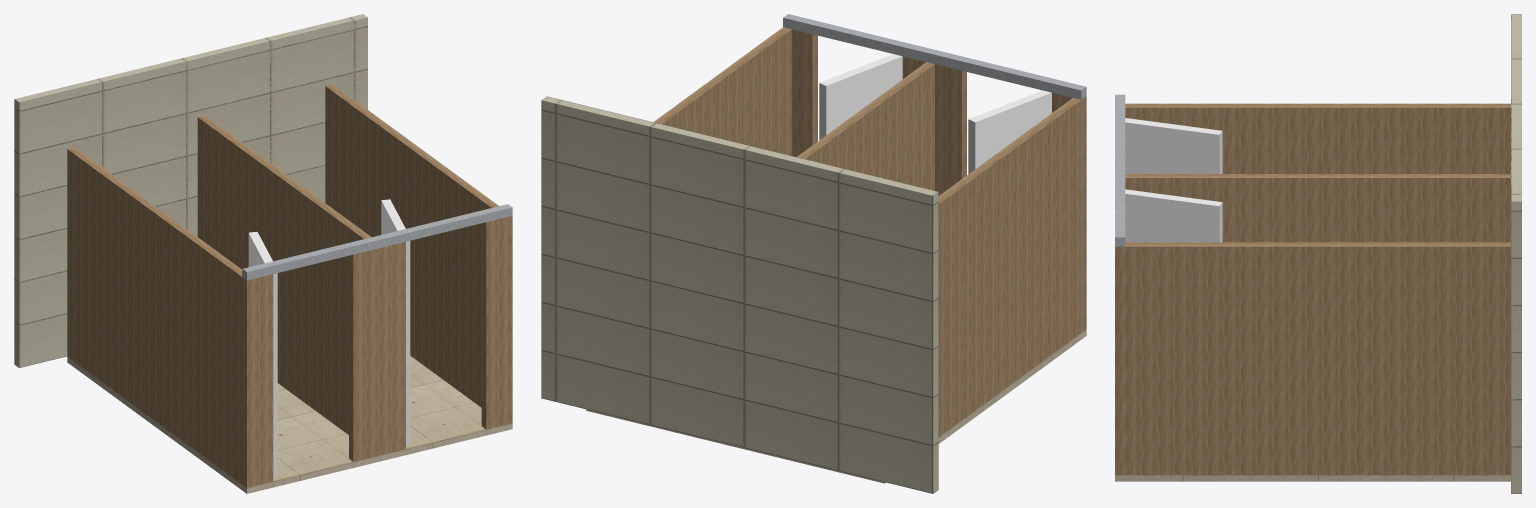
File: Cubicle.glb
3 renders of one model, left to right at view 1: azimuth 30°, elevation 25°; view 2: azimuth 150°, elevation 25°; view 3: azimuth 270°, elevation 25°, orthographic. The views are drawn at different scales.
Visible parts, largest first — view 1: group_6, group_0, group_8, group_1, group_3, group_5, group_2, group_11, group_9, group_7, group_4, group_10; view 2: group_6, group_0, group_8, group_1, group_7, group_3, group_10, group_4, group_11, group_2, group_5; view 3: group_8, group_0, group_1, group_6, group_4, group_10, group_9, group_11, group_7.
Part boxes in pixels (x1,y1,x2,y2): group_6: (14,14,367,367); group_0: (67,147,242,483); group_8: (325,84,498,407); group_1: (197,115,371,434); group_3: (349,242,405,461); group_5: (67,356,379,493); group_2: (242,274,273,487); group_11: (481,216,512,429); group_9: (379,356,512,461); group_7: (242,204,512,280); group_4: (248,231,277,477); group_10: (381,199,410,445); group_6: (541,96,938,493); group_0: (938,98,1081,436); group_8: (653,27,791,155); group_1: (797,62,934,190); group_7: (783,14,1086,99); group_3: (902,56,966,195); group_10: (819,54,902,139); group_4: (968,90,1051,173); group_11: (791,29,817,156); group_2: (1052,93,1086,332); group_5: (735,329,1086,483); group_8: (1125,242,1510,474); group_0: (1125,103,1510,173); group_1: (1125,174,1510,242); group_6: (1511,14,1521,493); group_4: (1125,118,1222,173); group_10: (1125,189,1222,242); group_9: (1115,475,1510,481); group_11: (1115,246,1125,474); group_7: (1115,94,1125,246).
Size of the model in its own units: 197 by 146 by 180.
Materials: 9 (4 with a texture image).
